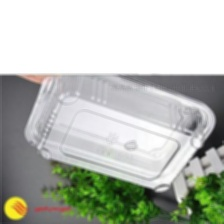plastic_box: (18, 75, 220, 198)
